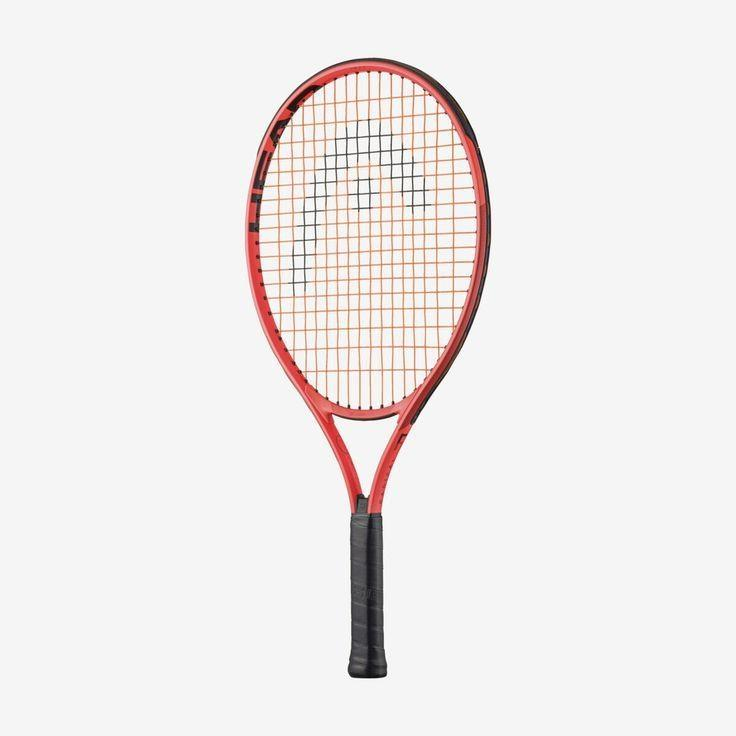Tennis-Racket: (235, 45, 503, 687)
